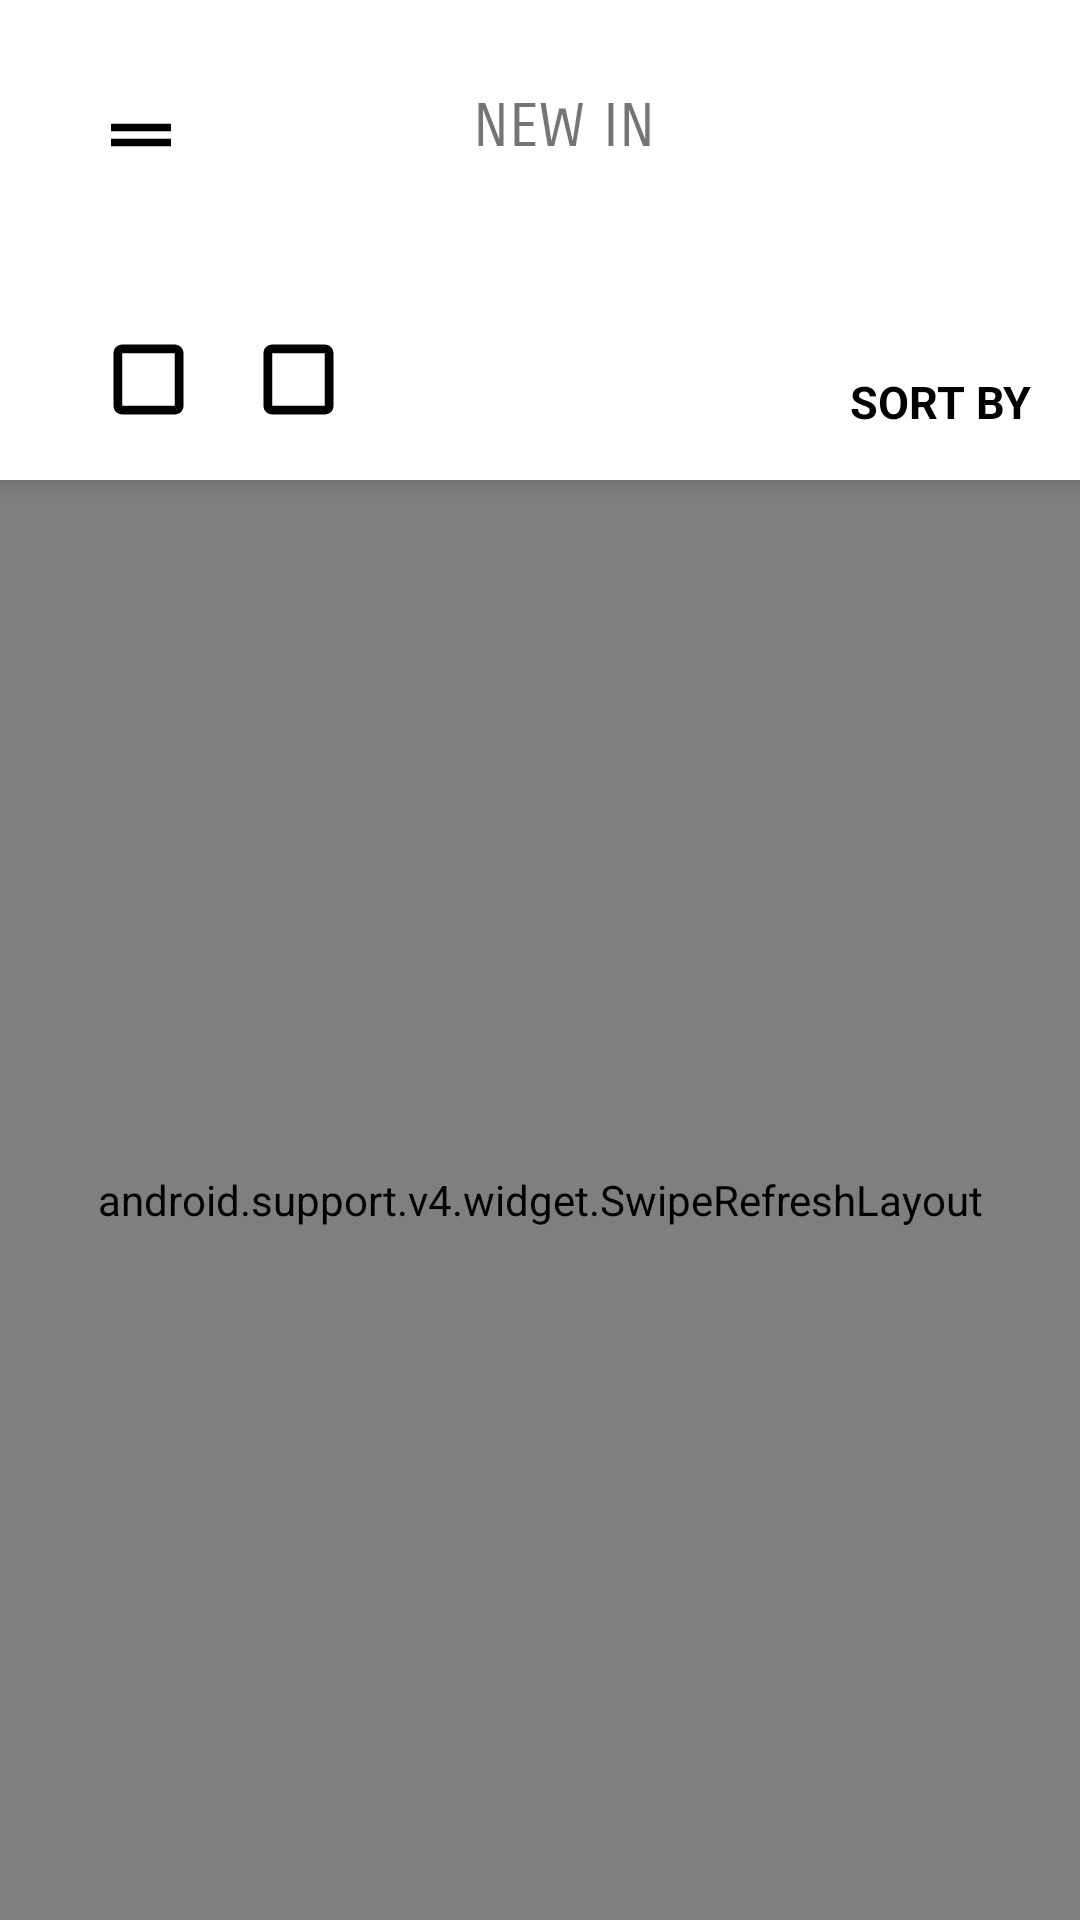

Screen size 1080px×1920px. Icon name, then its center in pixels as point (x, y):
crop square: point (148, 379), point (298, 379)
drag handle: point (141, 135)
